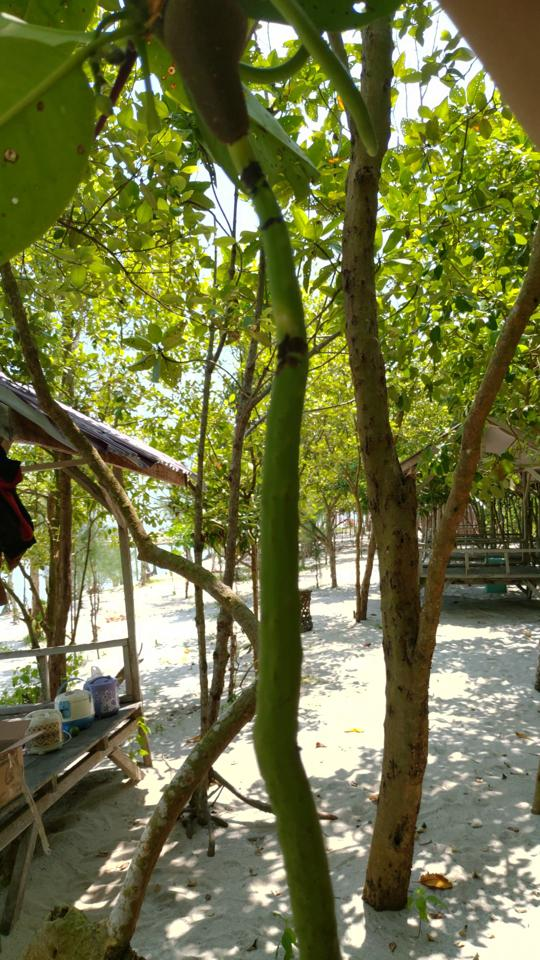setengah matang: (156, 1, 353, 958)
